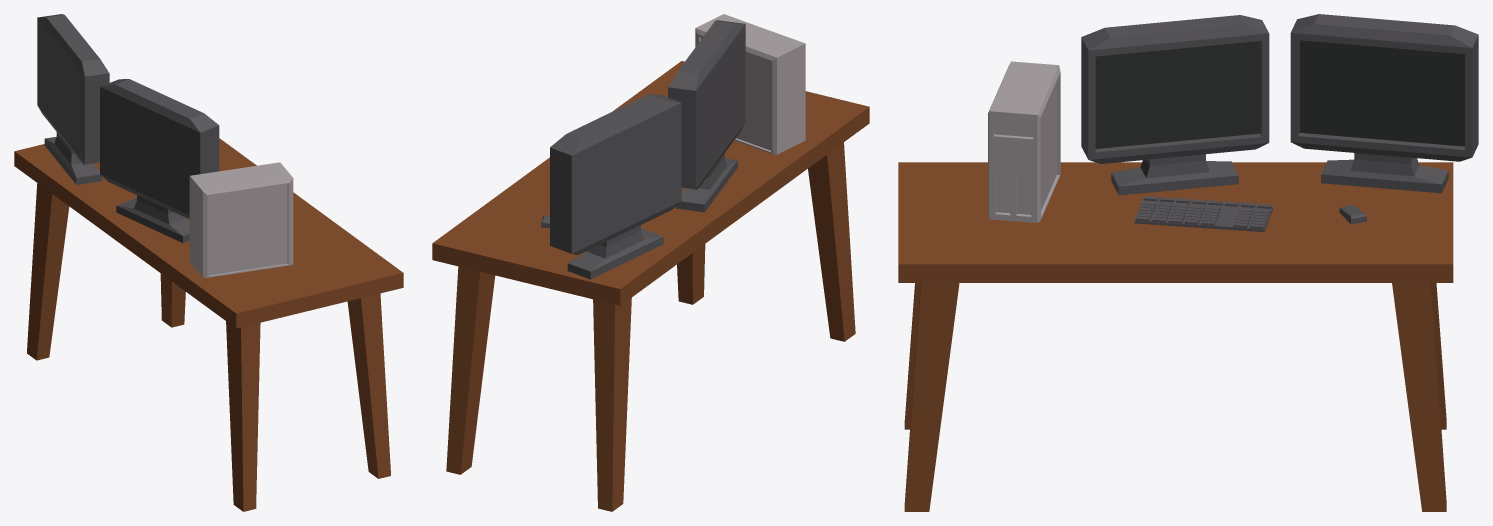
Rendered from Computer.fbx.
3 views of the same model, side by side, from view 1: azimuth 30°, elevation 25°; view 2: azimuth 150°, elevation 25°; view 3: azimuth 270°, elevation 25° (orthographic). The views are drawn at different scales.
Visible parts, largest first — view 1: Desk, Computer, Cube, Computer.001; view 2: Desk, Computer.001, Computer, Cube; view 3: Desk, Computer.001, Computer, Cube, Keyboard.
Boxes of the visible parts, bbox=[...] form: Desk: bbox=[14, 138, 403, 511]; Computer: bbox=[100, 79, 219, 242]; Cube: bbox=[189, 162, 293, 277]; Computer.001: bbox=[37, 14, 109, 184]; Desk: bbox=[432, 61, 869, 511]; Computer.001: bbox=[550, 94, 681, 279]; Computer: bbox=[668, 20, 745, 212]; Cube: bbox=[695, 14, 805, 154]; Desk: bbox=[898, 162, 1453, 511]; Computer.001: bbox=[1290, 14, 1478, 193]; Computer: bbox=[1081, 15, 1269, 195]; Cube: bbox=[988, 61, 1060, 222]; Keyboard: bbox=[1134, 196, 1272, 232].
Size of the model in its own units: 184 by 345 by 443.
